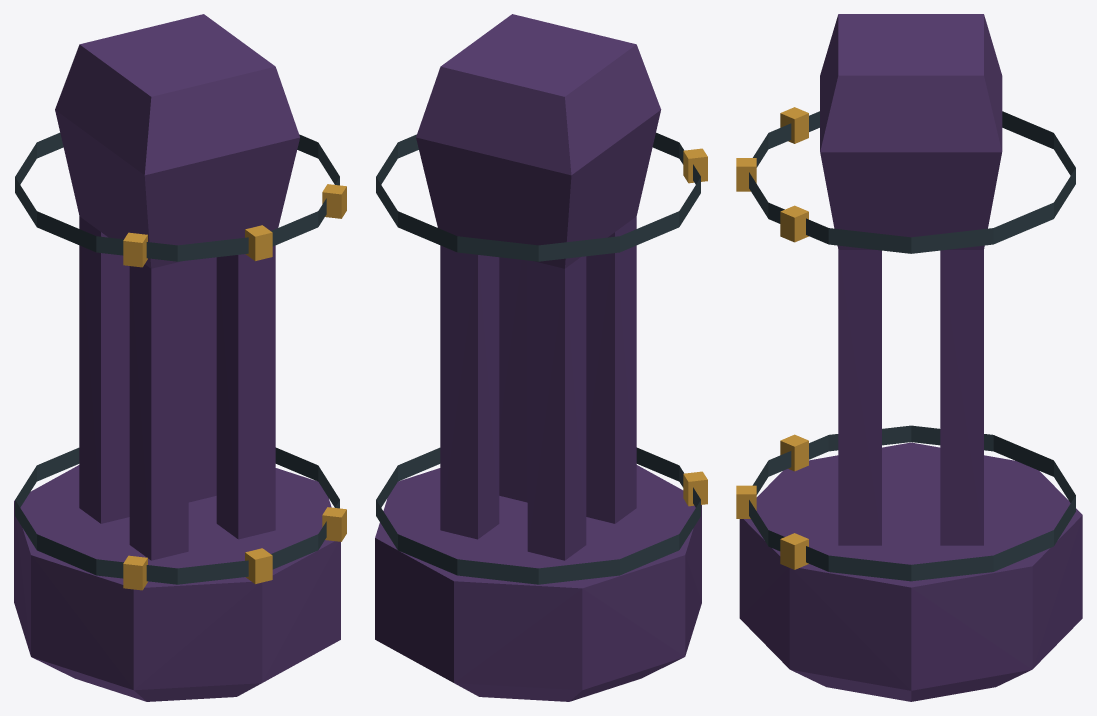
Rendered from signal-buoy-lilac.glb.
3 renders of one model, left to right at view 1: azimuth 30°, elevation 25°; view 2: azimuth 150°, elevation 25°; view 3: azimuth 270°, elevation 25°, orthographic.
Visible parts, largest first — view 1: signal-buoy-lilac; view 2: signal-buoy-lilac; view 3: signal-buoy-lilac.
Part boxes in pixels (x1,y1,x2,y2): signal-buoy-lilac: (14, 14, 346, 701); signal-buoy-lilac: (375, 14, 707, 701); signal-buoy-lilac: (736, 14, 1082, 701).
Bounding box in the file's own units: 0.79 × 1.54 × 0.7977.
